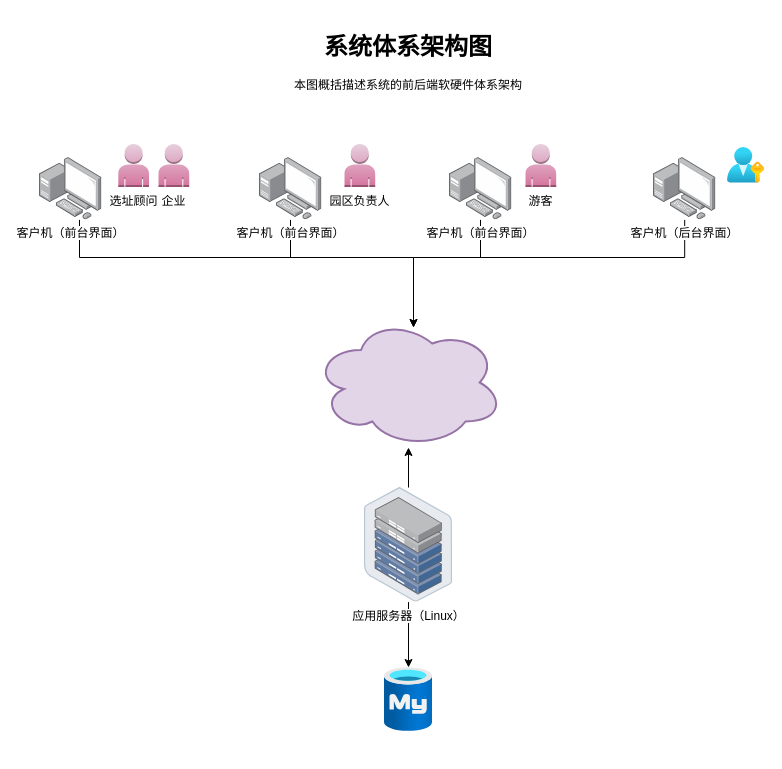
Image size: 782x769. Some labels were removed from this diagram. The centre of each missing label's shape, as x and y in pixels:
"互联网" goes at (x=408, y=382).
"数据服务器（MySQL）" goes at (x=408, y=699).
"管理员" goes at (x=745, y=165).
